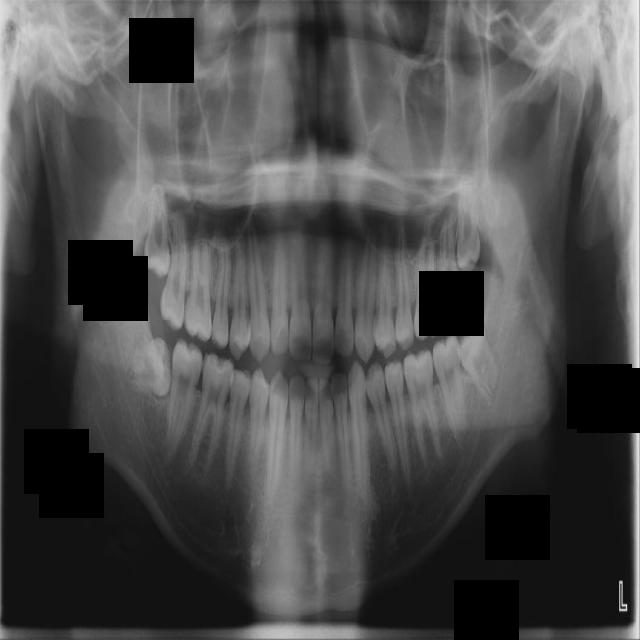3M ESPE Implant: (141, 181, 170, 275)
73: (608, 534, 618, 552)
BioHorizons Implant: (439, 211, 469, 328)
BioLife Implant: (454, 175, 486, 274)
Biomet 3i Implant: (445, 314, 510, 406)
Blue Sky Bio Implant: (431, 333, 470, 449)
Caries: (158, 217, 190, 329)
Implant: (163, 337, 205, 458)
Keystone Dental Implant: (127, 338, 171, 397)
